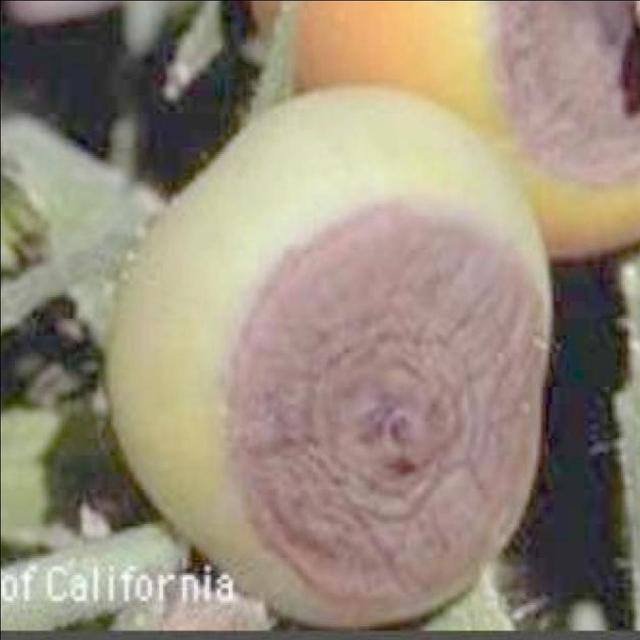Blossom End Rot Fruit: (121, 59, 366, 276)
